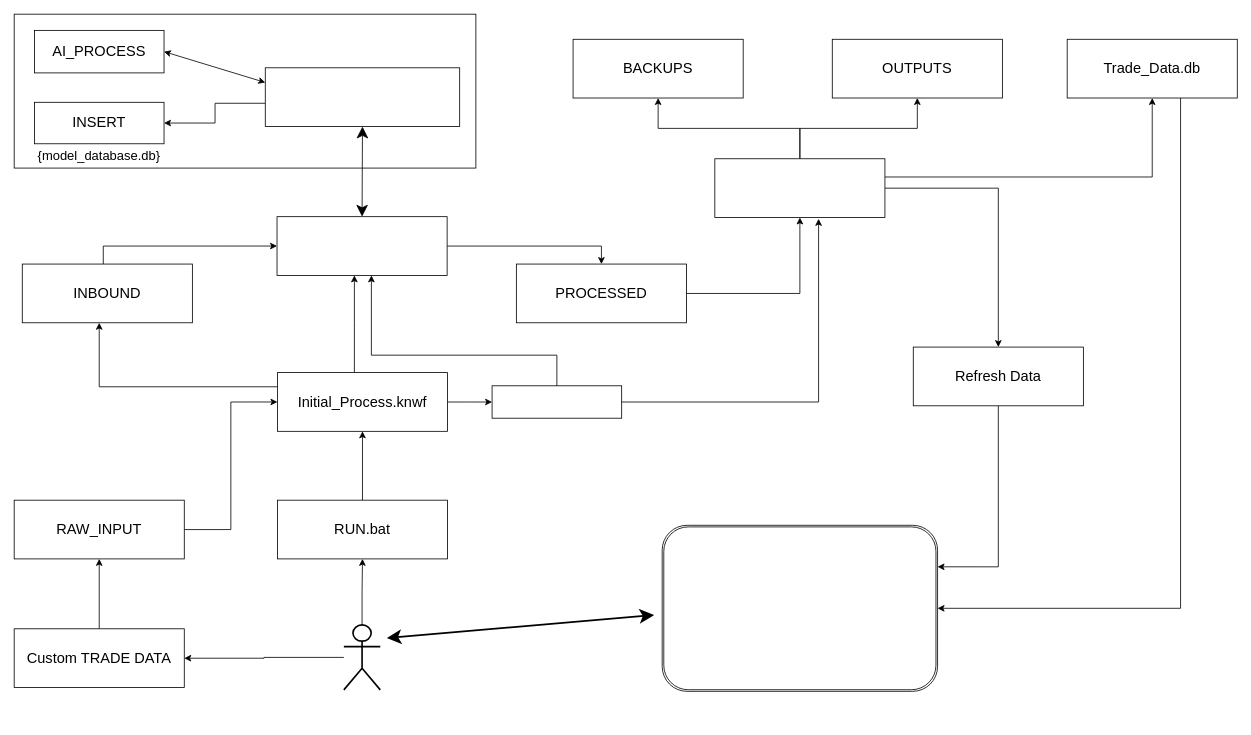
The diagram is 1251 pixels wide and 735 high, and some of its shapes have lost their labels. The shapes that lost their labels are listed below. From the top down, each one's centre as x and y in pixels, then its label:
point (362, 97): PHASE2_CLASSIFICATION
point (799, 187): Final_Process.knwf
point (361, 245): PHASE1_MAIN
point (556, 401): knime_config.json
point (799, 607): PowerBI Dashboard
point (362, 657): User
